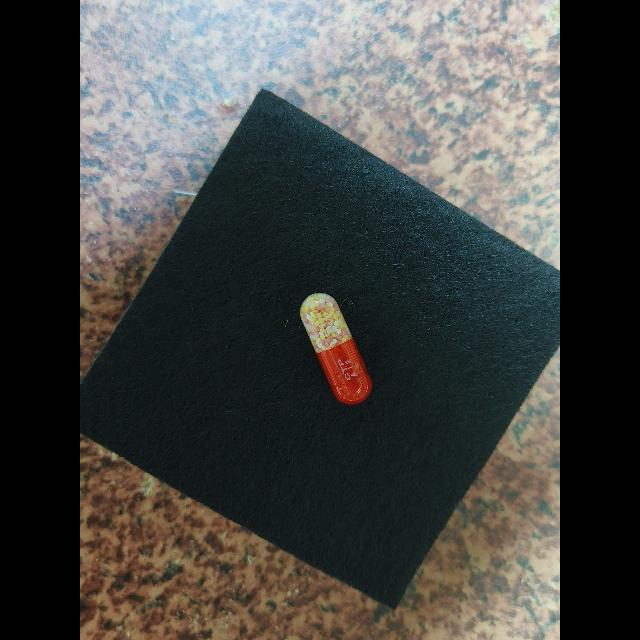Intact Capsule: (300, 293, 372, 405)
